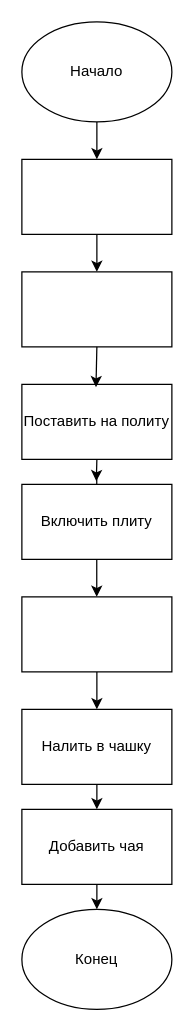
The diagram is 194 pixels wide and 1031 high, and some of its shapes have lost their labels. The centre of each missing label's shape, as x and y in pixels:
"Взять чайник" goes at [96,196].
"Дождаться закипания" goes at [96,634].
"Налить воду" goes at [96,309].
